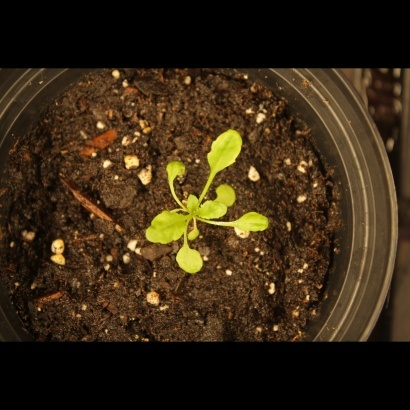leaf: (204, 119, 250, 178), (143, 211, 195, 248), (170, 242, 207, 281), (234, 206, 272, 237), (157, 156, 193, 185), (197, 198, 229, 221), (216, 184, 239, 207), (181, 191, 204, 214)
